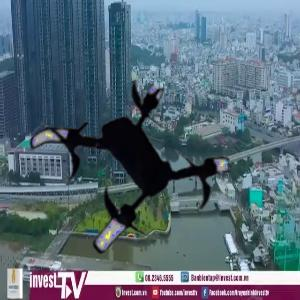drone: (23, 70, 228, 275)
